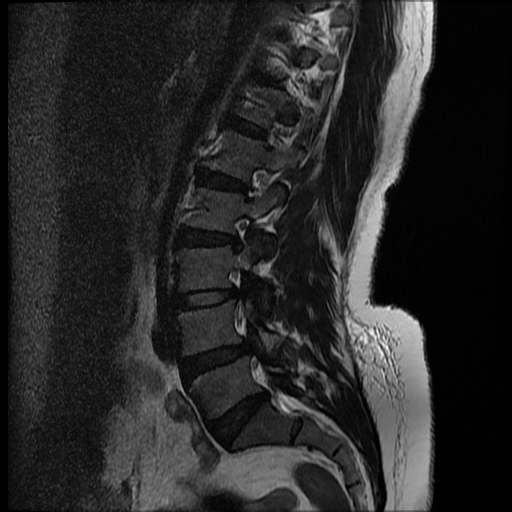RFS0: (236, 161, 272, 206), (223, 210, 256, 257)
